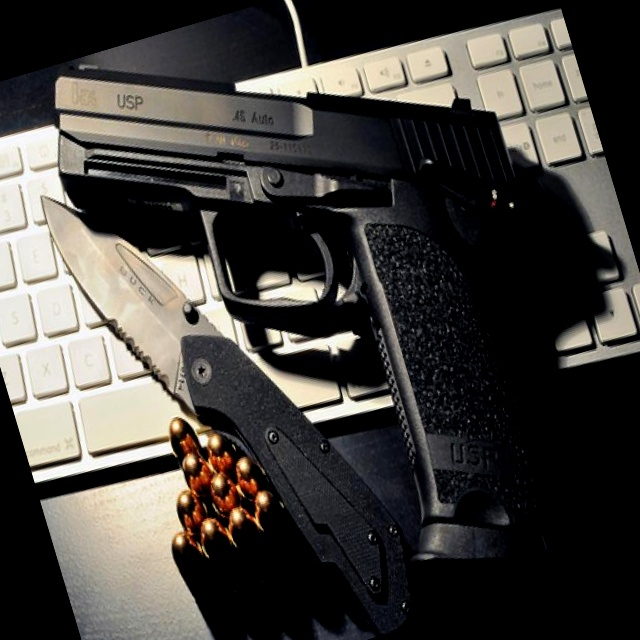gun: (31, 117, 425, 640)
